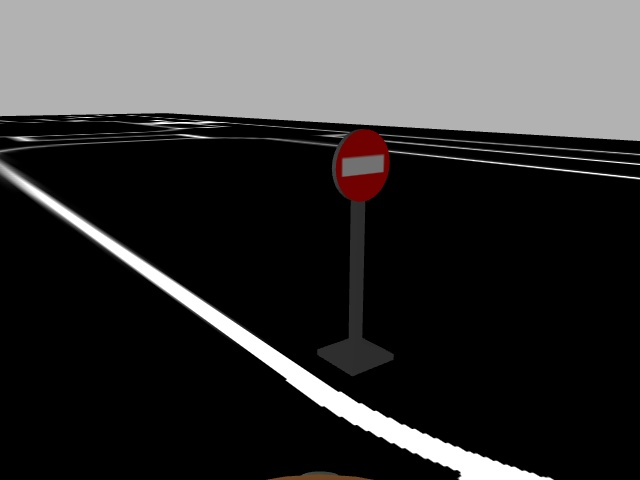prohibited: (333, 129, 391, 202)
